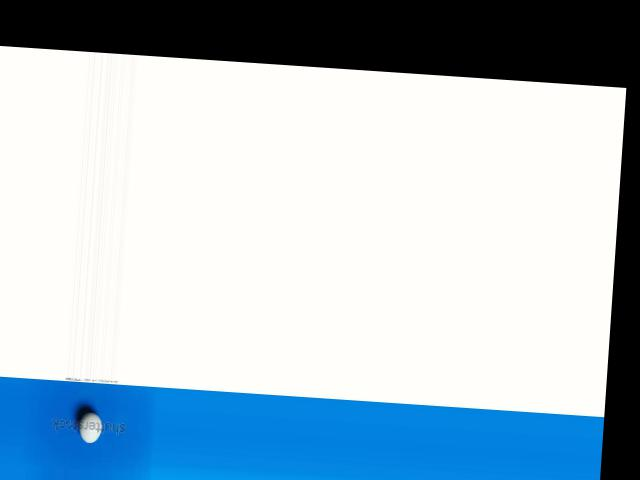egg: (78, 411, 102, 444)
